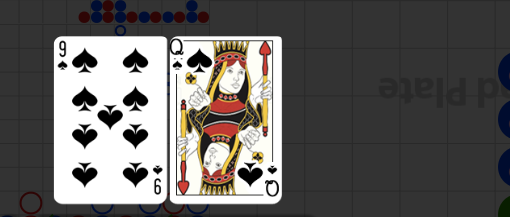9S: (265, 163, 282, 198), (56, 40, 69, 73)
